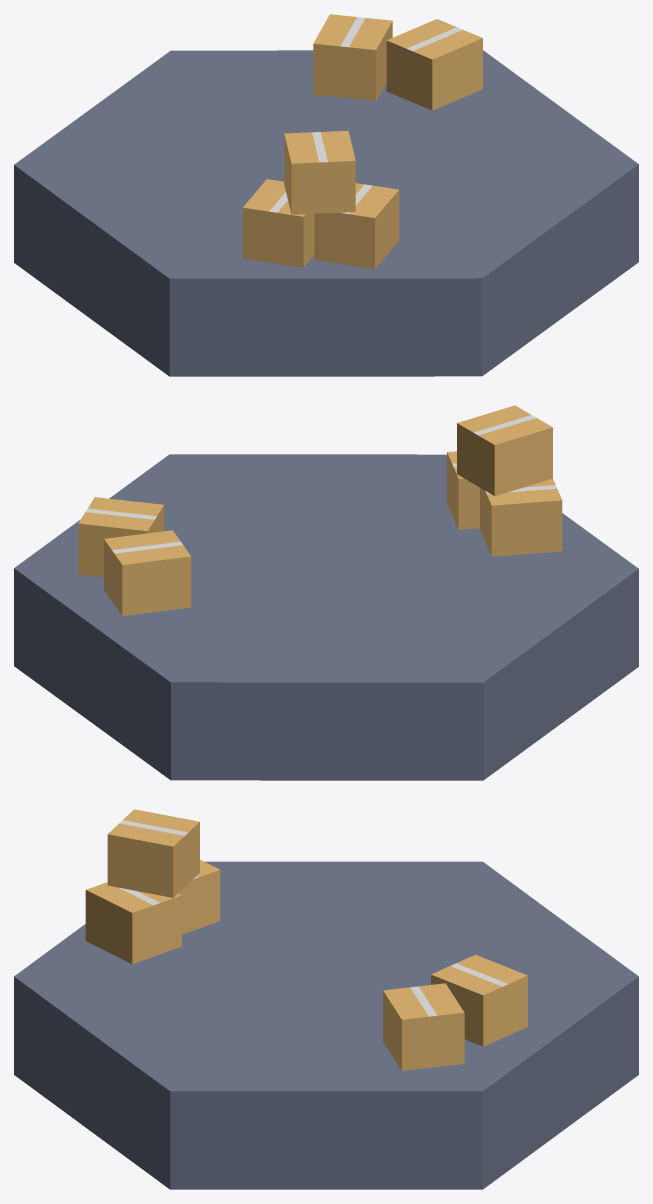
Rendered from RockHex_01.fbx.
The picture shows the model from 3 angles, top to bottom: view 1: azimuth 30°, elevation 25°; view 2: azimuth 150°, elevation 25°; view 3: azimuth 270°, elevation 25°; orthographic projection.
Parts seen in each view (by area): view 1: RockHex_01; view 2: RockHex_01; view 3: RockHex_01.
Boxes of the visible parts, box(x1,y1,x2,y2) form: RockHex_01: box(14, 14, 638, 376); RockHex_01: box(14, 405, 638, 780); RockHex_01: box(14, 809, 638, 1189).
Size of the model in its own units: 1 by 0.4107 by 1.15.
